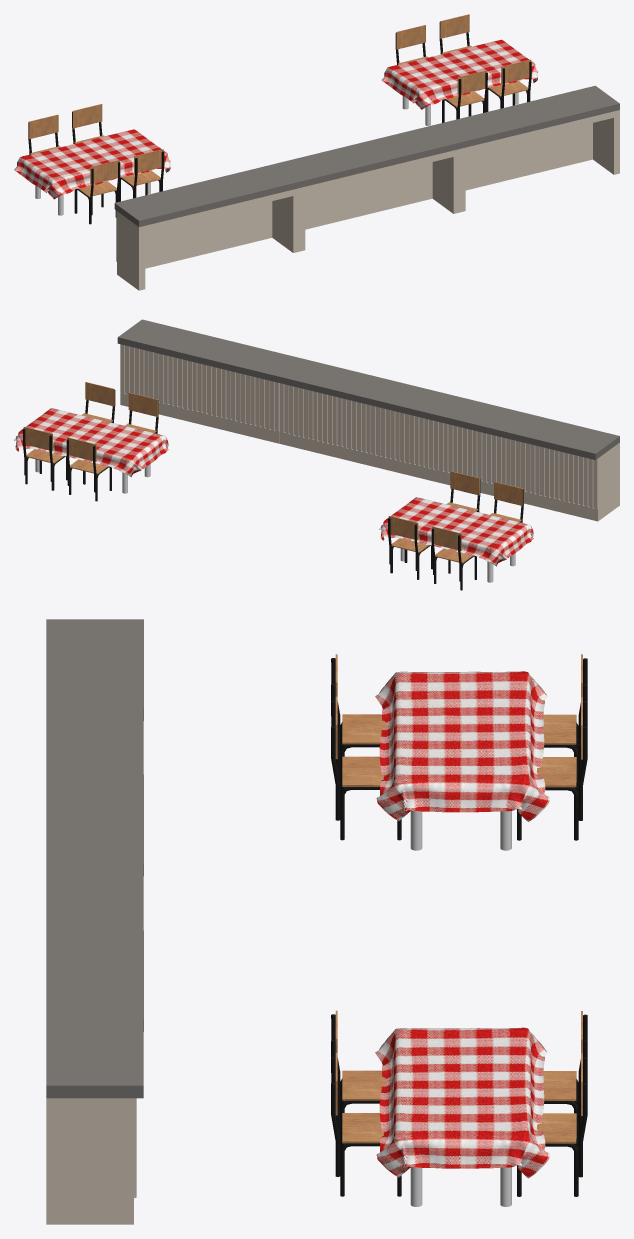
Rendered from objetosRefeitorio.fbx.
3 renders of one model, top to bottom at view 1: azimuth 30°, elevation 25°; view 2: azimuth 150°, elevation 25°; view 3: azimuth 270°, elevation 25°, orthographic. The views are drawn at different scales.
Visible parts, largest first — view 1: counter.002, counter.001, counter, Plane.002, Plane.006, Cube.009, Cube.011, Cube.015, Cube.001, Cube.003, Cube.013, Cube.014 (+1 smaller); view 2: counter.002, counter.001, counter, Plane.006, Plane.002, Cube.013, Cube.003, Cube.002, Cube.014, Cube.001, Cube.011, Cube.015 (+1 smaller); view 3: counter, Plane.006, Plane.002, counter.001, counter.002, Cube.001, Cube.015, Cube.014, Cube.002, Cube.011, Cube.009, Cube.003 (+3 smaller).
Part boxes in pixels (left/top/right/bottom): counter.002: left=114, top=164, right=299, bottom=290; counter.001: left=275, top=125, right=459, bottom=251; counter: left=435, top=85, right=619, bottom=212; Plane.002: left=381, top=39, right=537, bottom=109; Plane.006: left=14, top=129, right=170, bottom=199; Cube.009: left=74, top=160, right=120, bottom=224; Cube.011: left=442, top=70, right=487, bottom=122; Cube.015: left=486, top=59, right=531, bottom=111; Cube.001: left=119, top=149, right=164, bottom=201; Cube.003: left=28, top=114, right=60, bottom=154; Cube.013: left=395, top=25, right=428, bottom=64; Cube.014: left=439, top=14, right=471, bottom=54; counter.002: left=436, top=397, right=619, bottom=521; counter.001: left=277, top=358, right=460, bottom=482; counter: left=117, top=319, right=300, bottom=443; Plane.006: left=379, top=497, right=533, bottom=566; Plane.002: left=14, top=408, right=168, bottom=477; Cube.013: left=66, top=437, right=111, bottom=501; Cube.003: left=431, top=526, right=476, bottom=590; Cube.002: left=388, top=516, right=432, bottom=579; Cube.014: left=23, top=426, right=67, bottom=490; Cube.001: left=446, top=471, right=480, bottom=511; Cube.011: left=125, top=392, right=158, bottom=433; Cube.015: left=81, top=382, right=115, bottom=422; counter: left=46, top=930, right=143, bottom=1224; Plane.006: left=375, top=671, right=549, bottom=821; Plane.002: left=375, top=1027, right=549, bottom=1178; counter.001: left=46, top=774, right=143, bottom=930; counter.002: left=46, top=619, right=143, bottom=774; Cube.001: left=331, top=696, right=401, bottom=840; Cube.015: left=331, top=1053, right=401, bottom=1196; Cube.014: left=517, top=1053, right=587, bottom=1196; Cube.002: left=517, top=697, right=587, bottom=840; Cube.011: left=331, top=1010, right=386, bottom=1123; Cube.009: left=331, top=654, right=386, bottom=767; Cube.003: left=543, top=654, right=587, bottom=767.
Bounding box in the file's own units: 2827 × 381 × 1345.
